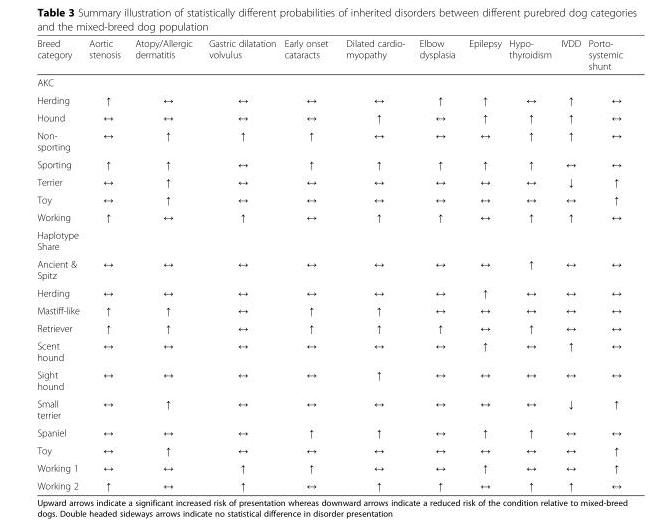table: (36, 37, 622, 490)
table column: (199, 37, 279, 490), (336, 37, 411, 490), (127, 37, 199, 490), (279, 37, 336, 490), (504, 37, 555, 490), (411, 37, 461, 490), (36, 37, 83, 490), (83, 37, 127, 490), (461, 37, 504, 490), (584, 37, 622, 490), (555, 37, 584, 490)
table column header: (36, 37, 622, 73)
table projected row header: (36, 225, 622, 254), (36, 73, 622, 90)
table row: (36, 37, 622, 73), (36, 126, 622, 155), (36, 225, 622, 254), (36, 254, 622, 283), (36, 336, 622, 365), (36, 365, 622, 394), (36, 394, 622, 423), (36, 90, 622, 108), (36, 108, 622, 126), (36, 172, 622, 190), (36, 207, 622, 225), (36, 283, 622, 301), (36, 318, 622, 336), (36, 423, 622, 441), (36, 458, 622, 476), (36, 73, 622, 90), (36, 155, 622, 172), (36, 190, 622, 207), (36, 301, 622, 318), (36, 441, 622, 458), (36, 476, 622, 490)
